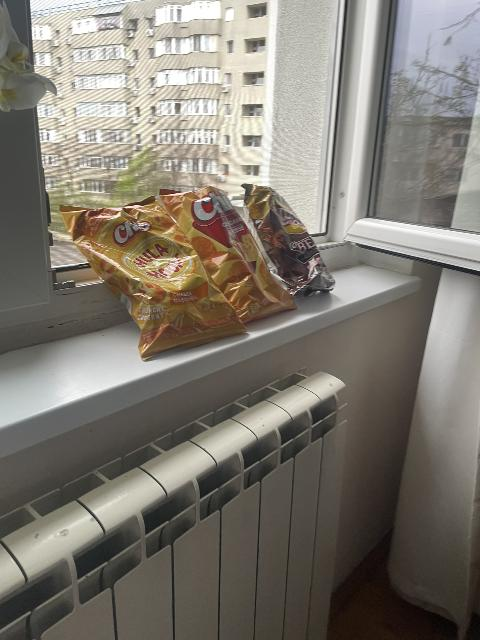Chio Cascaval 125g: (156, 184, 297, 326)
Chio Hula Hoops Cheese 70g: (57, 195, 248, 363)
Lays Beef Grilled Ribs 125g: (242, 183, 331, 297)
